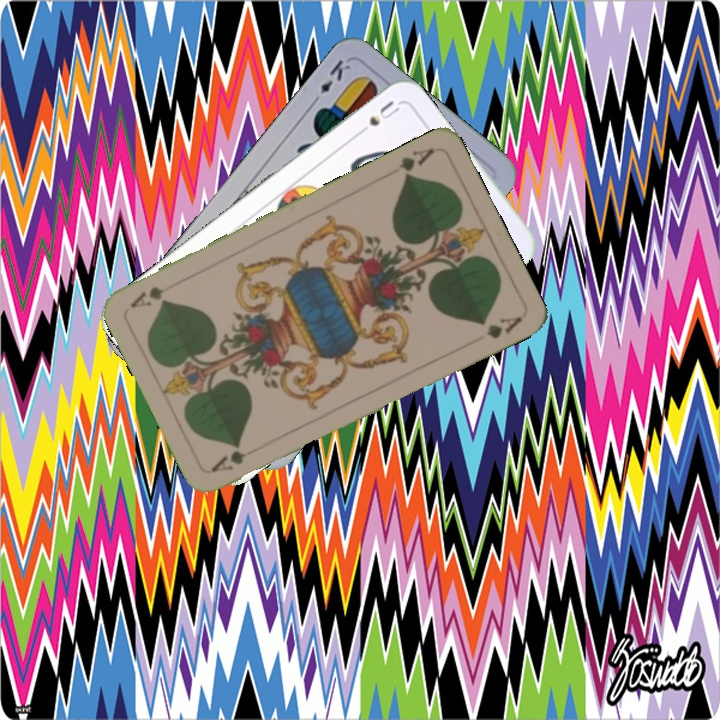EK: (307, 55, 354, 107)
GA: (395, 144, 437, 182), (207, 446, 248, 475)
SU: (351, 96, 403, 140)
